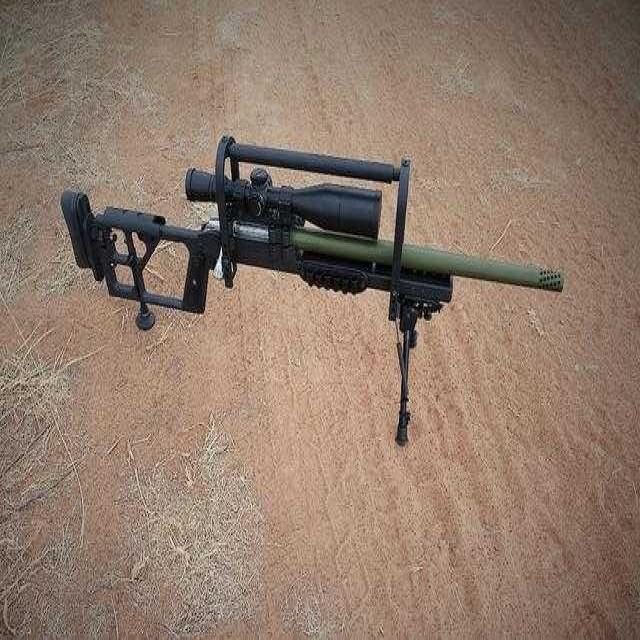heavyweapon: (48, 130, 577, 452)
